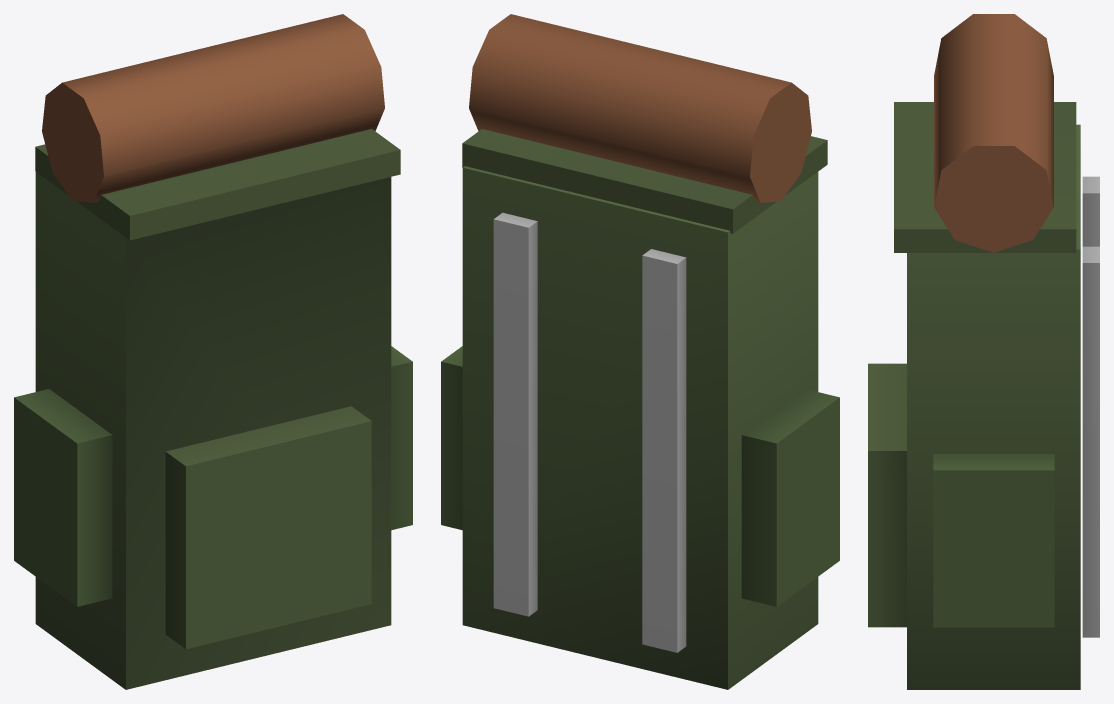
File: mochila_grande.glb
The picture shows the model from 3 angles, left to right: view 1: azimuth 30°, elevation 25°; view 2: azimuth 150°, elevation 25°; view 3: azimuth 270°, elevation 25°; orthographic projection. The views are drawn at different scales.
Parts seen in each view (by area): view 1: mochila_grande; view 2: mochila_grande; view 3: mochila_grande.
Part boxes in pixels (x1,y1,x2,y2): mochila_grande: (14, 14, 412, 689); mochila_grande: (441, 14, 839, 689); mochila_grande: (868, 14, 1099, 689).
Size of the model in its own units: 0.43 by 0.6958 by 0.267.
